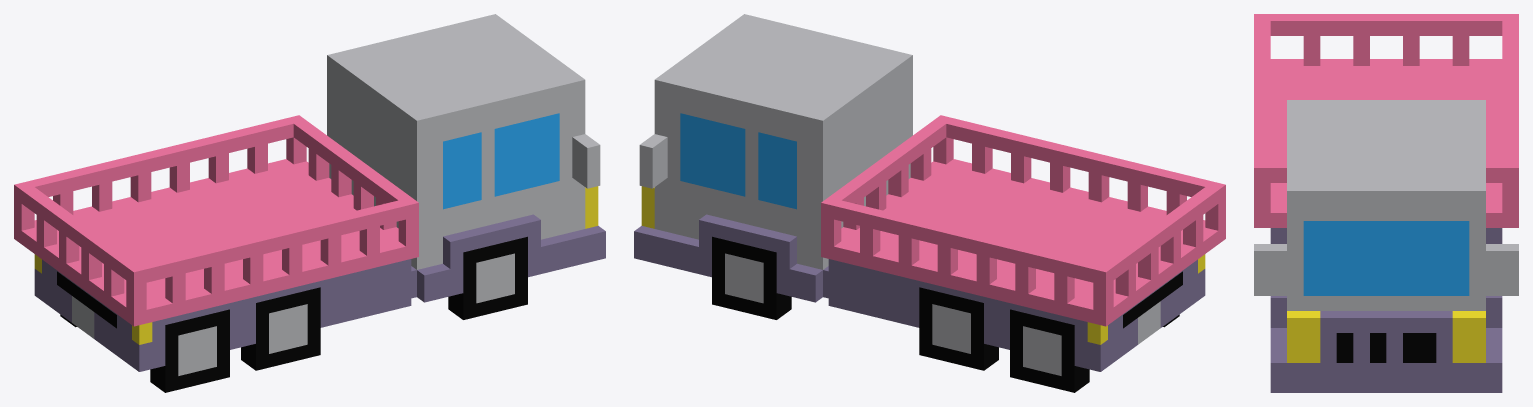
File: truck_a_e.obj
The picture shows the model from 3 angles, left to right: view 1: azimuth 30°, elevation 25°; view 2: azimuth 150°, elevation 25°; view 3: azimuth 270°, elevation 25°; orthographic projection. The views are drawn at different scales.
Size of the model in its own units: 3.7 by 1.5 by 1.6.
Materials: 1 (1 with a texture image).
